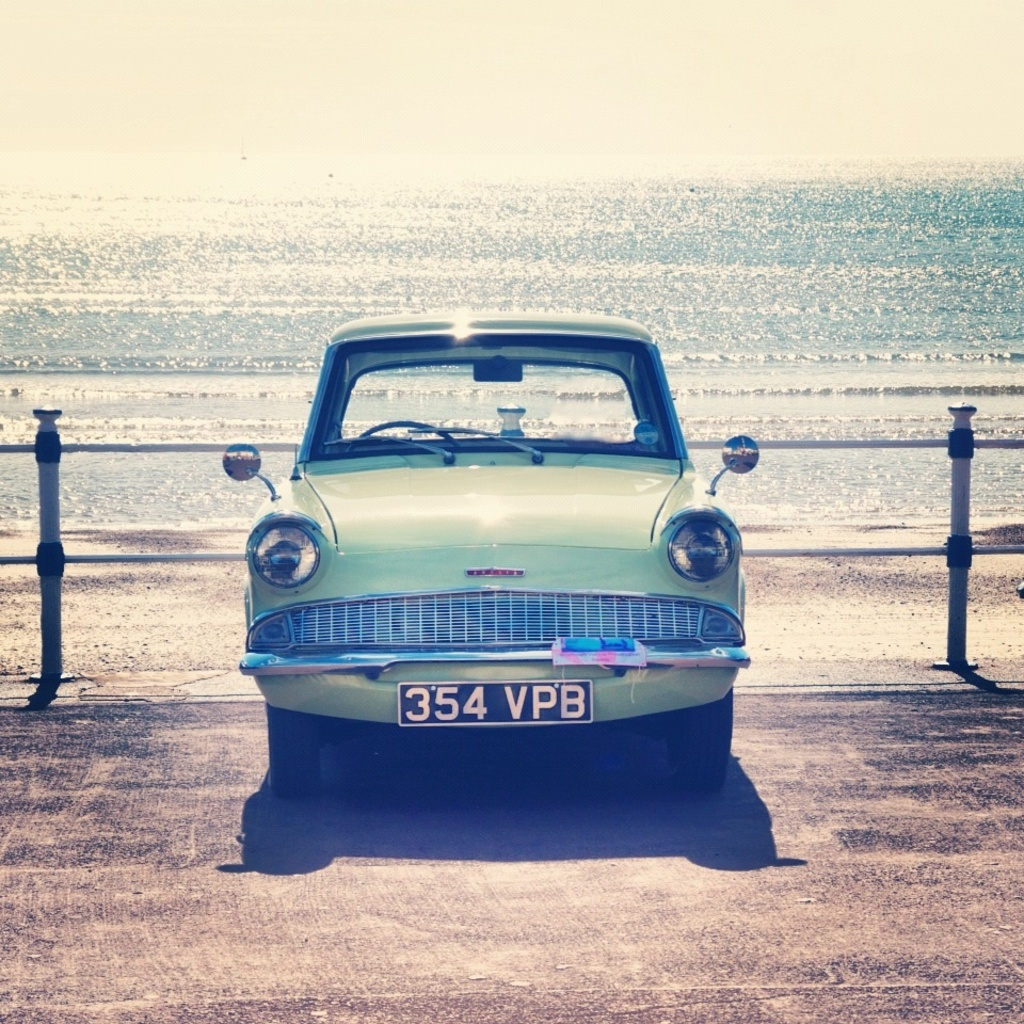Car: (220, 309, 757, 797)
